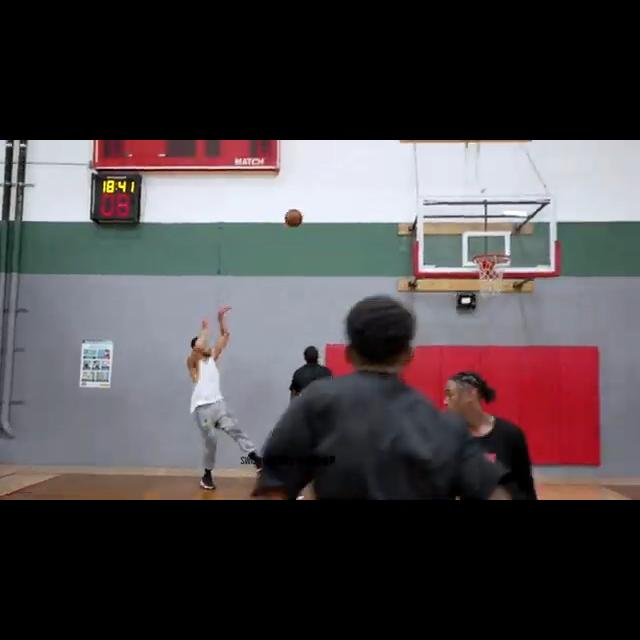basketball: (284, 207, 304, 228)
hoop: (472, 255, 514, 301)
person: (247, 298, 513, 500), (180, 306, 266, 492), (432, 373, 543, 499), (285, 344, 338, 435)
